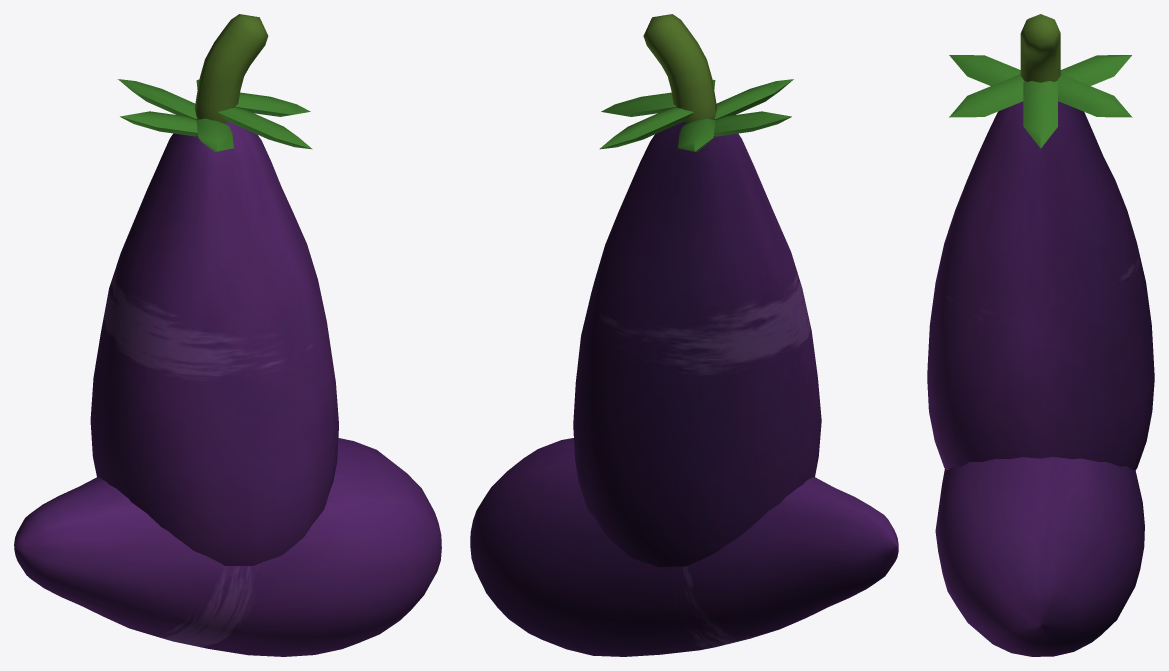
The model's file is veg_aubergine_pair.glb.
3 renders of one model, left to right at view 1: azimuth 30°, elevation 25°; view 2: azimuth 150°, elevation 25°; view 3: azimuth 270°, elevation 25°, orthographic. The views are drawn at different scales.
Visible parts, largest first — view 1: veg_aubergine_pair; view 2: veg_aubergine_pair; view 3: veg_aubergine_pair.
Part boxes in pixels (bbox=[...]): veg_aubergine_pair: bbox=[14, 14, 441, 656]; veg_aubergine_pair: bbox=[470, 14, 898, 656]; veg_aubergine_pair: bbox=[927, 14, 1154, 656].
Bounding box in the file's own units: 0.1776 × 0.263 × 0.0912.
3 materials, 1 textured.
